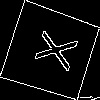X: (25, 26, 79, 72)
